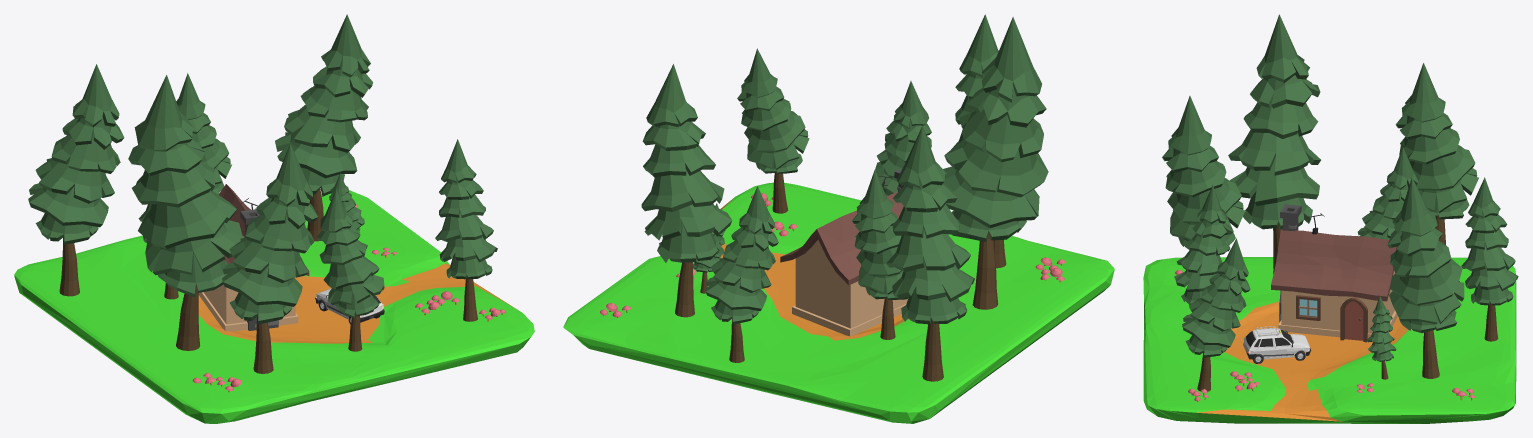
3 views of the same model, side by side, from view 1: azimuth 30°, elevation 25°; view 2: azimuth 150°, elevation 25°; view 3: azimuth 270°, elevation 25° (orthographic). The views are drawn at different scales.
Parts seen in each view (by area): view 1: Cube, tree_exp.002, tree_exp.003, tree_exp.004, tree_exp.005, tree_exp.006, tree_exp.001, tree_exp.008, Cube.006, tree_exp.007, Cube.002; view 2: Cube, tree_exp.002, tree_exp.005, tree_exp.003, tree_exp.008, tree_exp.006, Cube.006, tree_exp, tree_exp.001, Cube.002, tree_exp.004, tree_exp.007; view 3: Cube, tree_exp.002, tree_exp.005, Cube.002, tree_exp.003, tree_exp.004, tree_exp.006, tree_exp.008, tree_exp.001, Cube.006, tree_exp, car-body (+4 smaller).
Boxes of the visible parts, x1,y1,x2,y2 form: Cube: [14, 190, 534, 423]; tree_exp.002: [128, 75, 244, 350]; tree_exp.003: [28, 64, 124, 296]; tree_exp.004: [222, 143, 317, 373]; tree_exp.005: [275, 14, 372, 241]; tree_exp.006: [435, 139, 497, 321]; tree_exp.001: [317, 188, 384, 351]; tree_exp.008: [176, 73, 231, 194]; Cube.006: [198, 277, 298, 331]; tree_exp.007: [329, 173, 364, 232]; Cube.002: [218, 184, 309, 275]; Cube: [563, 182, 1114, 423]; tree_exp.002: [943, 17, 1048, 309]; tree_exp.005: [641, 64, 732, 317]; tree_exp.003: [886, 125, 974, 381]; tree_exp.008: [705, 186, 778, 362]; tree_exp.006: [737, 48, 809, 213]; Cube.006: [792, 239, 908, 336]; tree_exp: [852, 170, 908, 339]; tree_exp.001: [875, 81, 931, 196]; Cube.002: [780, 192, 903, 285]; tree_exp.004: [951, 14, 1006, 268]; tree_exp.007: [693, 203, 725, 293]; Cube: [1143, 257, 1516, 423]; tree_exp.002: [1228, 14, 1320, 274]; tree_exp.005: [1387, 177, 1464, 378]; Cube.002: [1271, 229, 1398, 301]; tree_exp.003: [1395, 63, 1478, 245]; tree_exp.004: [1162, 96, 1245, 251]; tree_exp.006: [1182, 238, 1250, 391]; tree_exp.008: [1461, 177, 1518, 341]; tree_exp.001: [1174, 185, 1232, 304]; Cube.006: [1278, 270, 1397, 338]; tree_exp: [1357, 147, 1418, 239]; car-body: [1243, 328, 1309, 359].
Size of what is drawn, in the model's own units: 11.57 by 9.14 by 11.28.
